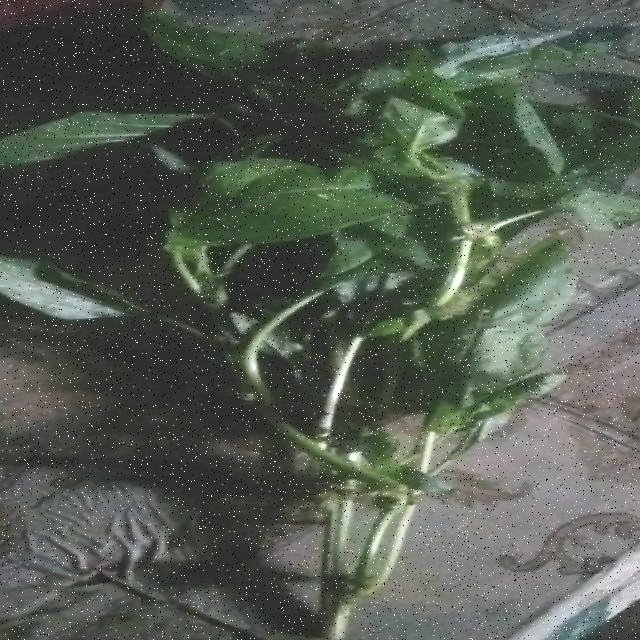Spinach: (13, 28, 640, 574)
